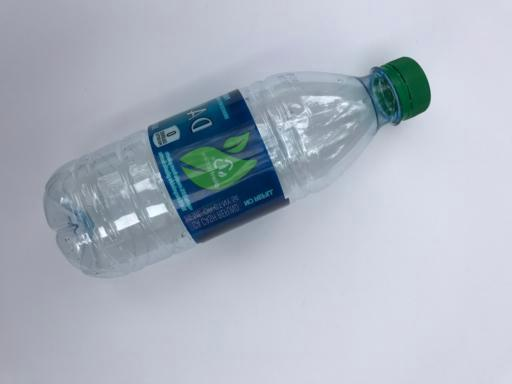PET: (43, 55, 432, 278)
dasani: (43, 55, 432, 278)
plastic: (43, 55, 432, 278)
water: (43, 55, 432, 278)
